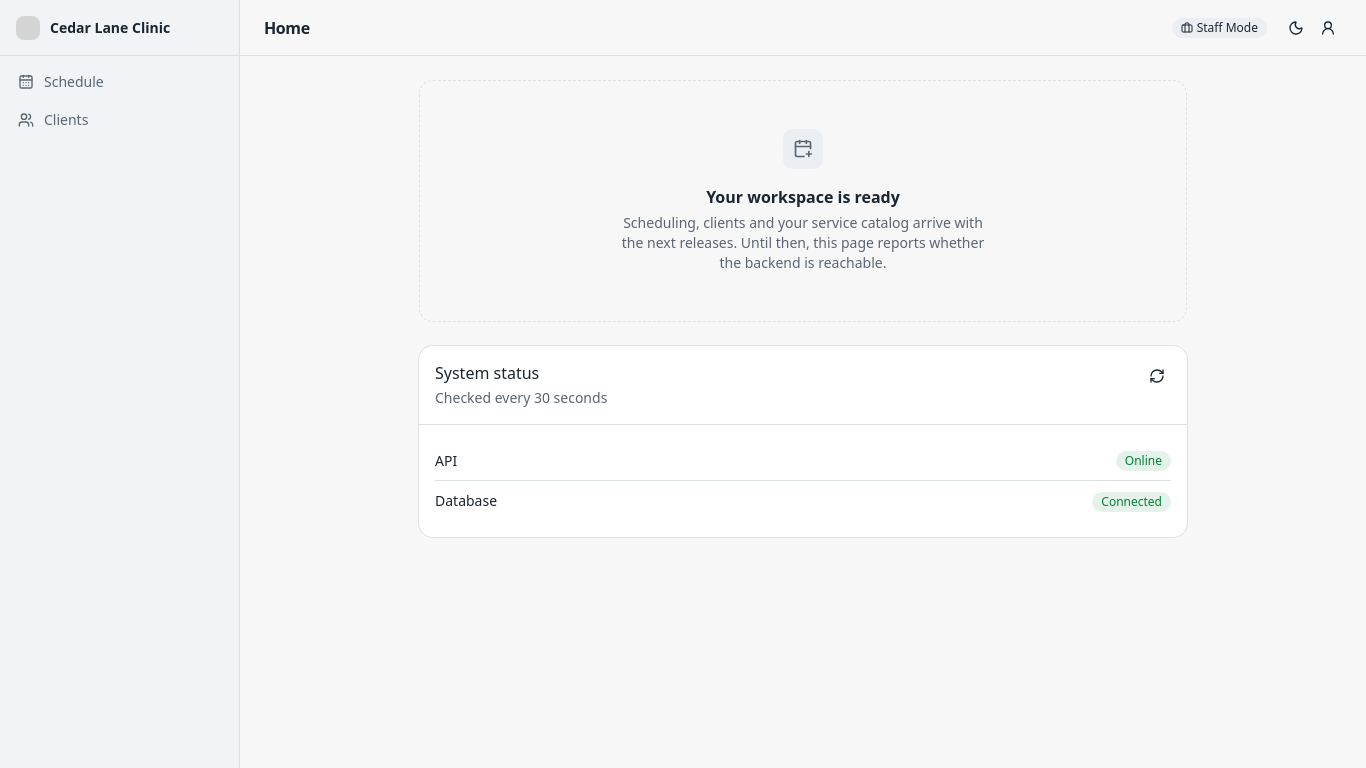
the Admin Mode dialog shows a lockout instead of asking again
Click the button with aria-label "Switch mode" at (1219, 28), box [1161,14,1278,42]
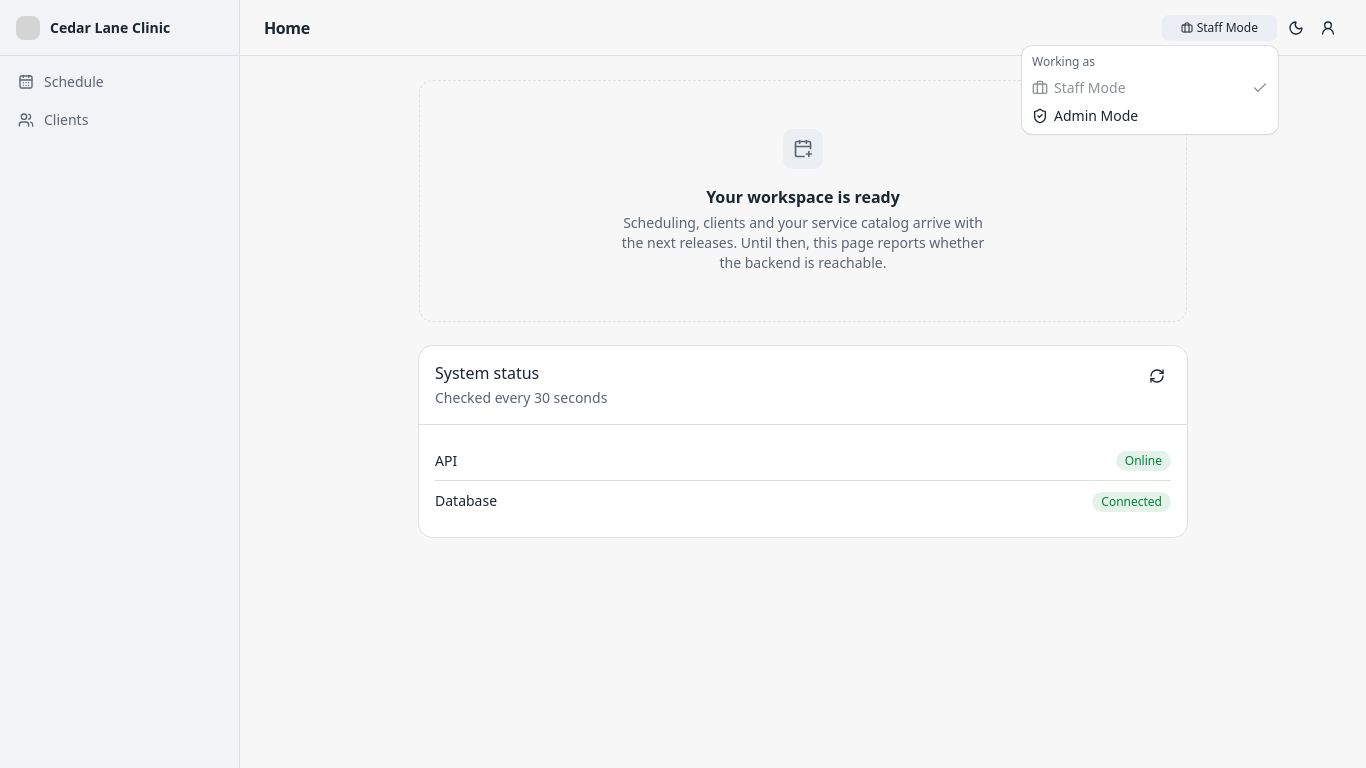
Click the menu item "Admin Mode" at (1085, 116), box [1032,106,1138,125]
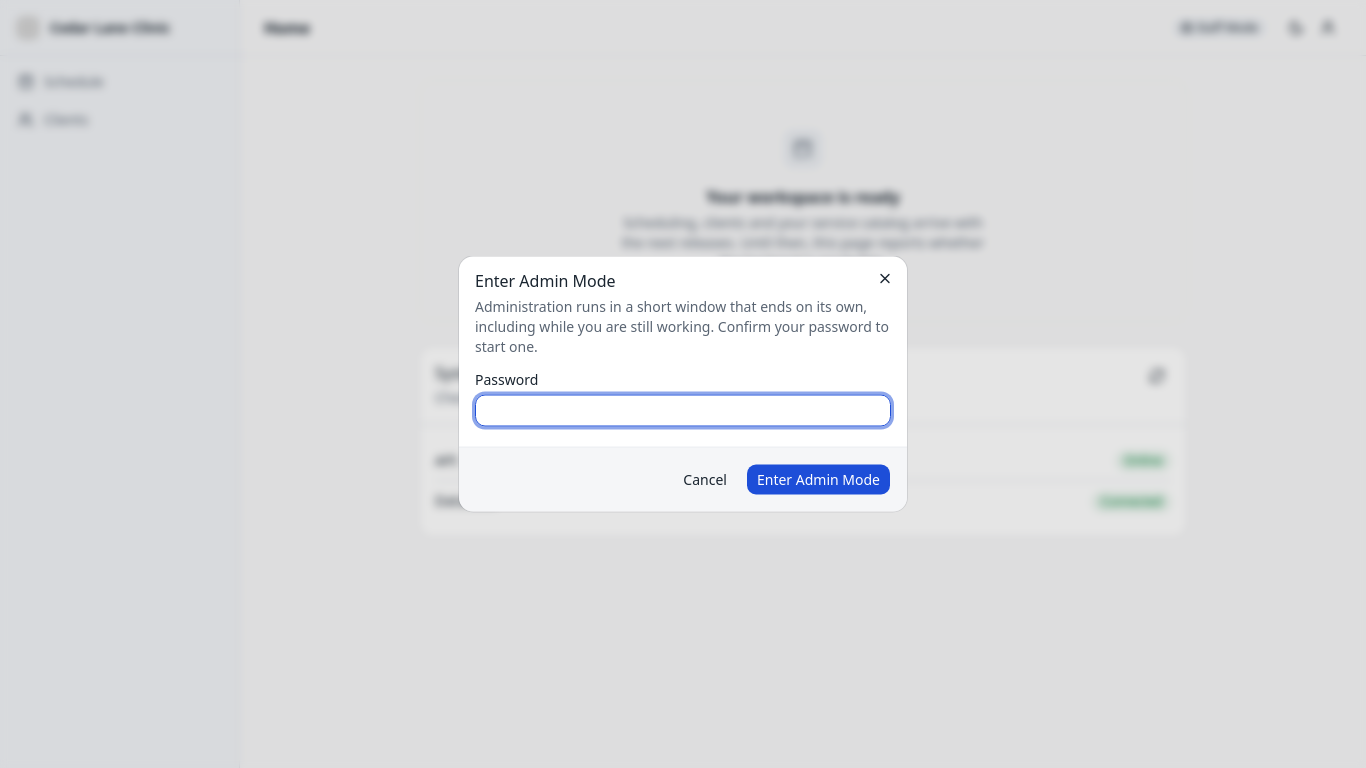
Type "not the password" into the password field labelled "Password" at (683, 410), box [475,394,891,426]
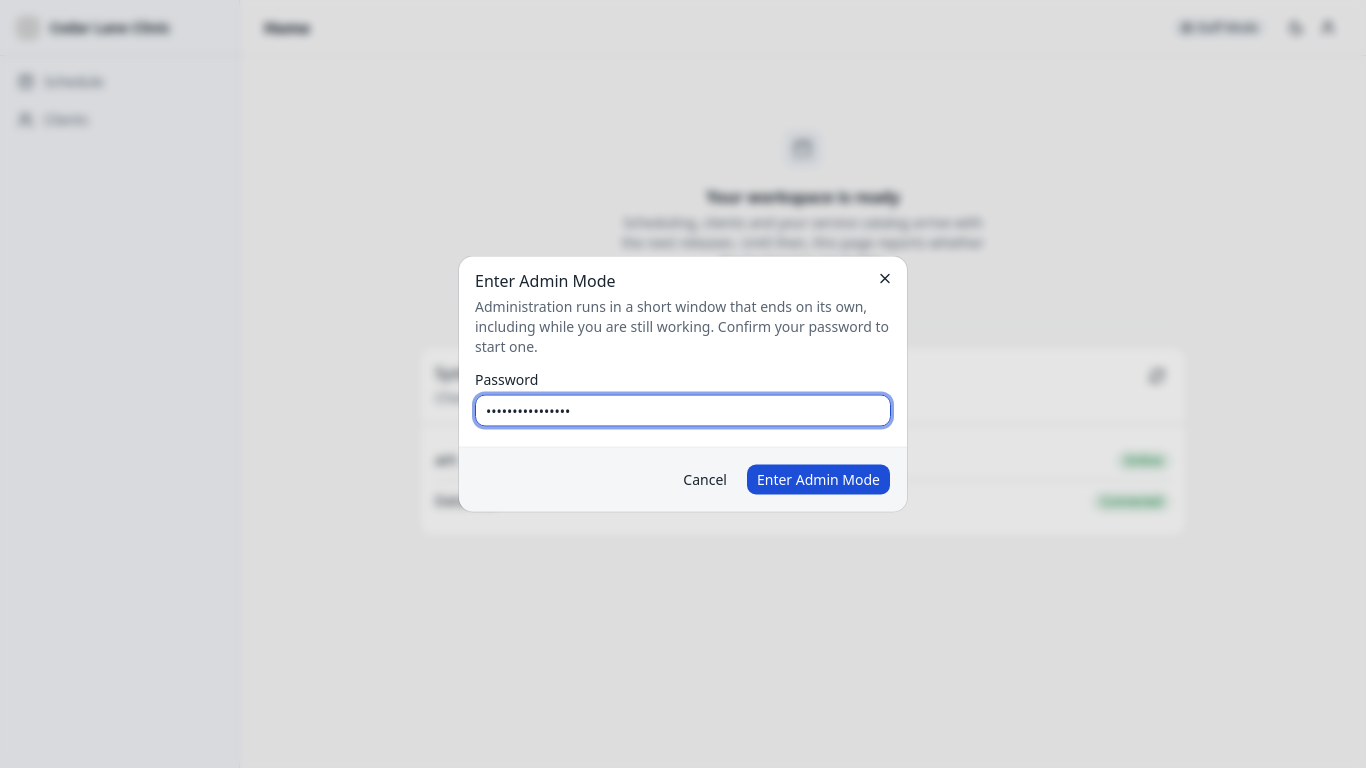
Click the button "Enter Admin Mode" at (818, 480), box [746,464,891,496]
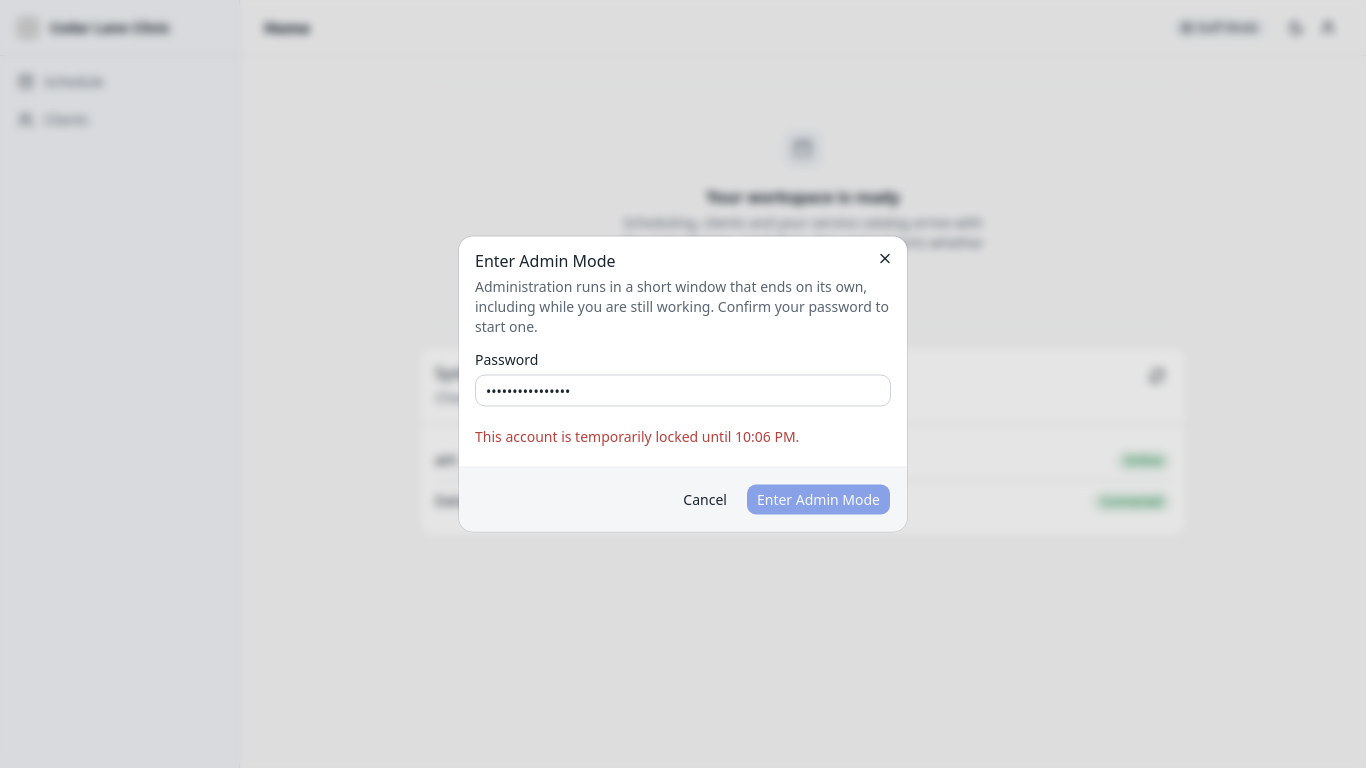
Expected: the message shows "temporarily locked until", [475,426,799,446]
Expected: the button "Enter Admin Mode" is disabled, [746,484,891,516]
